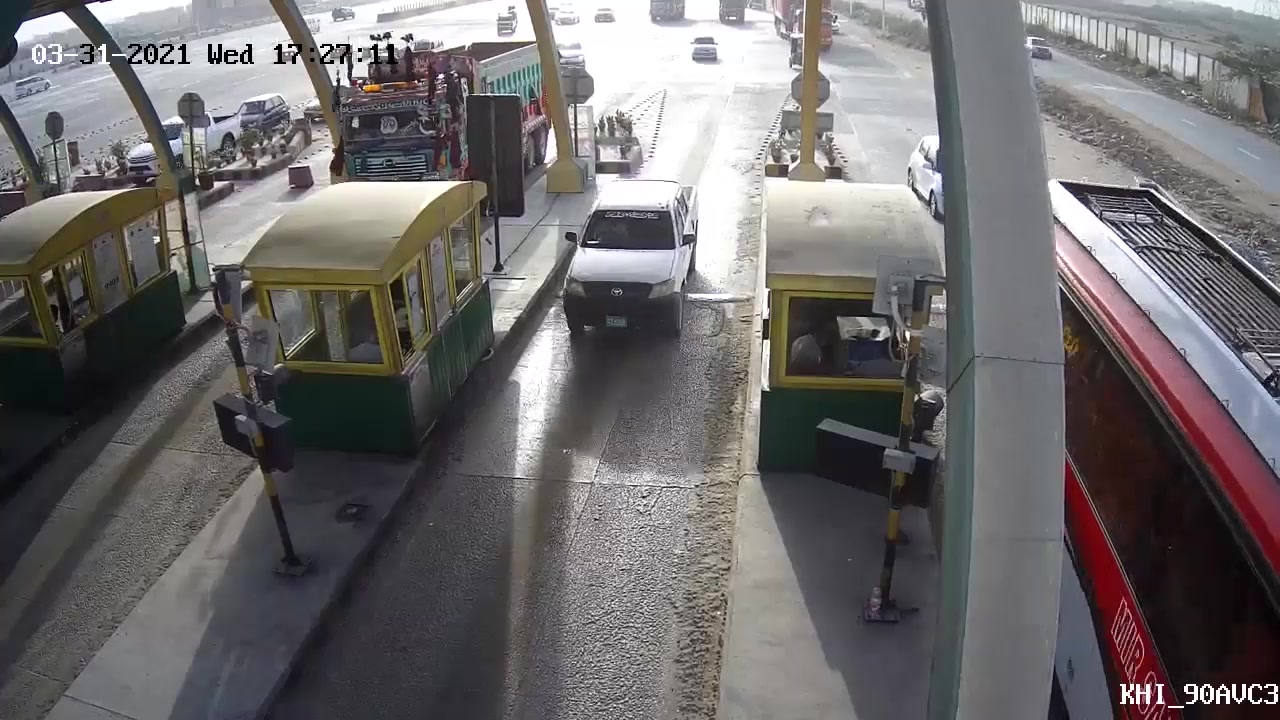F1: (555, 177, 709, 347)
